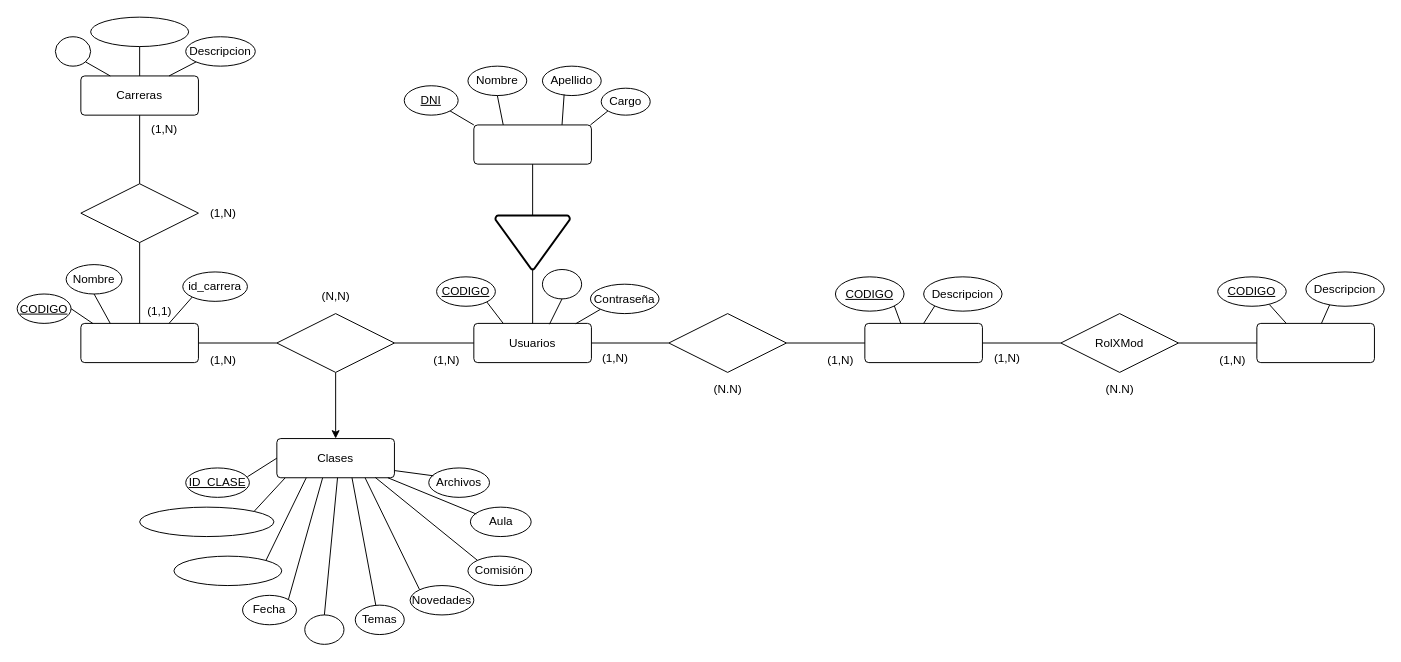
This 1401x662 diagram has some shape labels left out. The centre of each missing label's shape, as x and y in pixels:
"CODIGO_MATERIA" belongs at (x=227, y=570).
"CODIGO_USUARIO" belongs at (x=206, y=521).
"ES" belongs at (x=532, y=242).
"Hora" belongs at (x=324, y=629).
"ID" belongs at (x=72, y=51).
"Mail" belongs at (x=561, y=284).
"Materias" belongs at (x=139, y=342).
"Modulos" belongs at (x=1315, y=342).
"Persona" belongs at (x=532, y=144).
"Roles" belongs at (x=923, y=342).
"Titulo_abreviado" belongs at (x=139, y=31).
"UsuXRol" belongs at (x=727, y=342).
